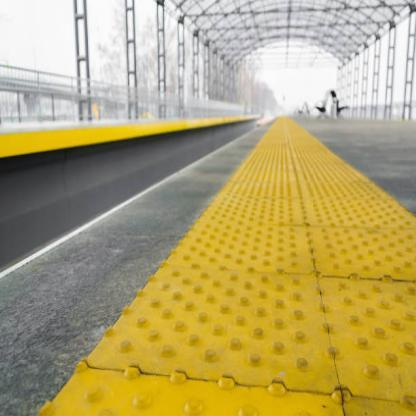podotacti: (37, 47, 415, 416)
